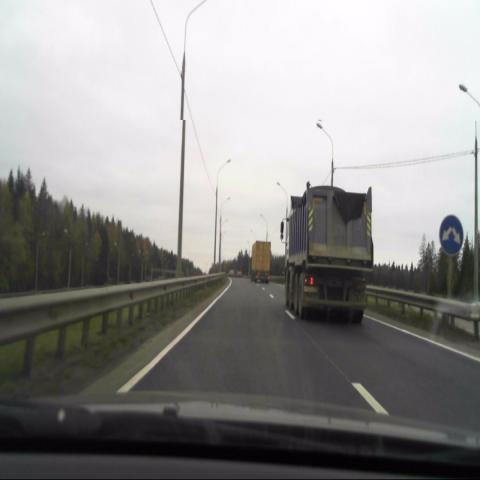4_2_3: (439, 213, 465, 260)
